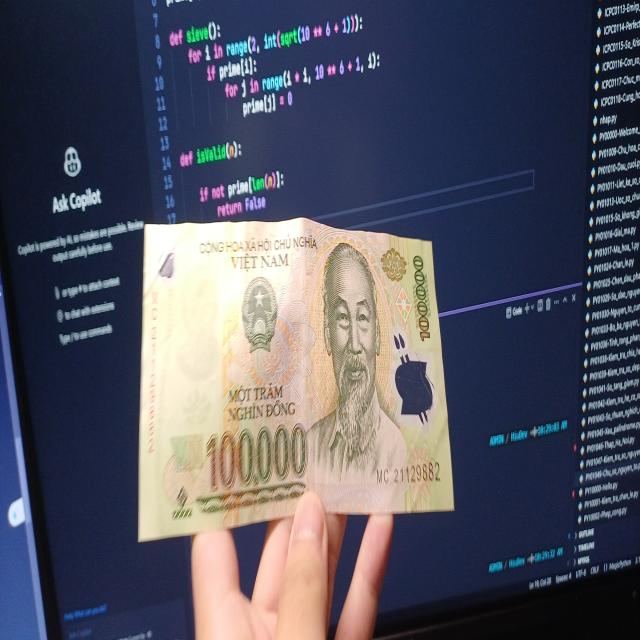100 000 VND: (135, 216, 456, 544)
